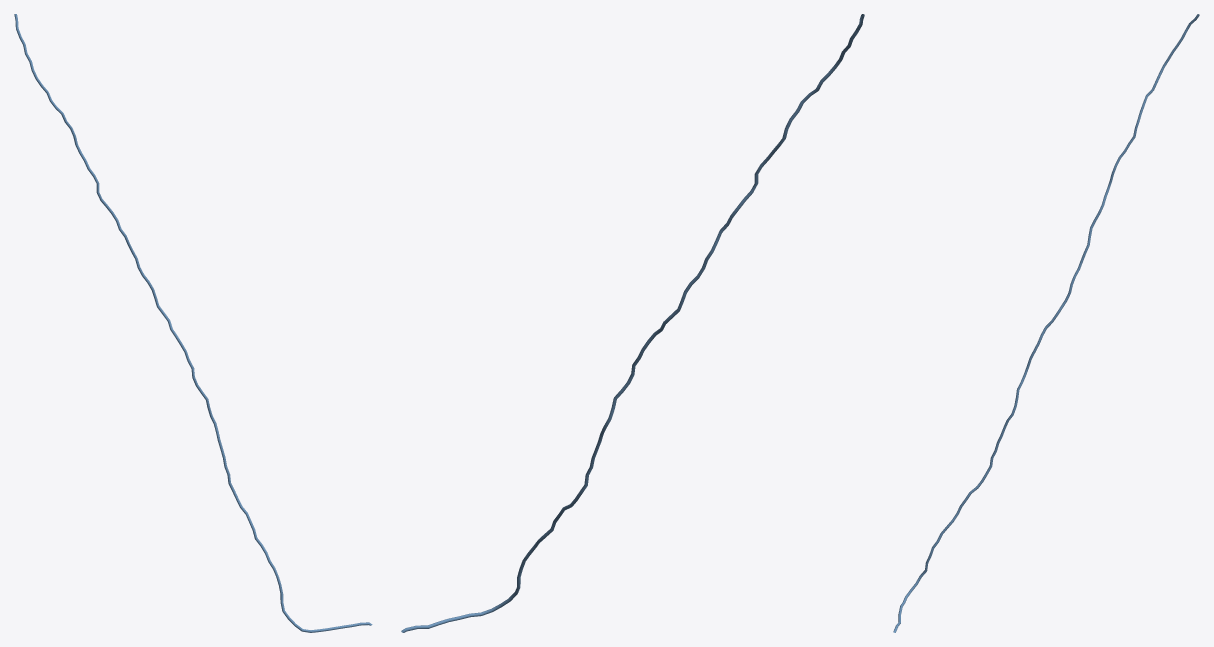
File: sweep249.fbx
The picture shows the model from 3 angles, left to right: view 1: azimuth 30°, elevation 25°; view 2: azimuth 210°, elevation 25°; view 3: azimuth 270°, elevation 25°; orthographic projection. The views are drawn at different scales.
Visible parts, largest first — view 1: sweep249; view 2: sweep249; view 3: sweep249.
Part boxes in pixels (x1,y1,x2,y2): sweep249: (14,14,372,632); sweep249: (401,14,864,632); sweep249: (893,14,1199,632).
Size of the model in its own units: 1.66 by 4.27 by 2.26.
